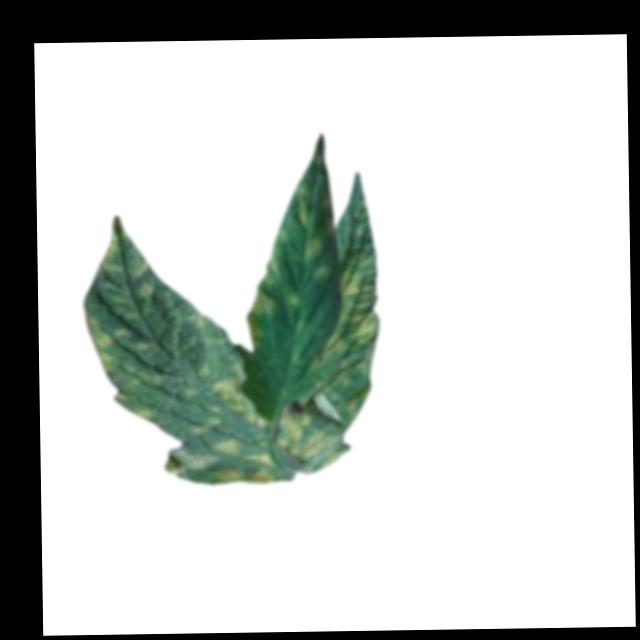Leaf_Mold: (280, 252, 383, 476), (164, 358, 273, 486), (83, 314, 155, 424), (245, 284, 277, 351), (303, 237, 332, 256)
